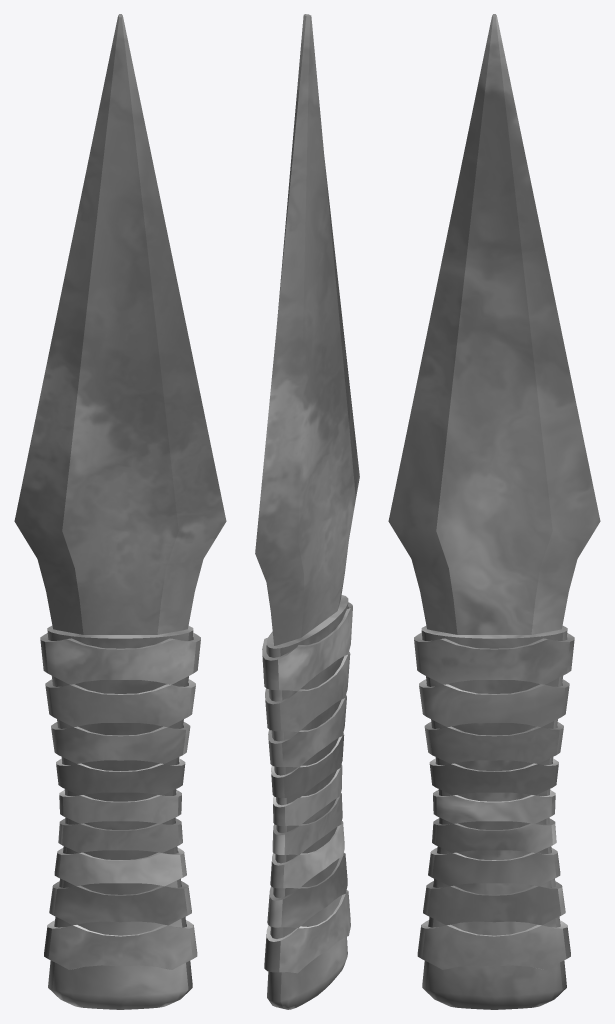
The model's file is SM_knife_02.fbx.
3 views of the same model, side by side, from view 1: azimuth 90°, elevation 25°; view 2: azimuth 150°, elevation 25°; view 3: azimuth 270°, elevation 25° (orthographic).
Visible parts, largest first — view 1: SM_knife_02; view 2: SM_knife_02; view 3: SM_knife_02.
Part boxes in pixels (x1=…): SM_knife_02: x1=14, y1=14, x2=226, y2=1009; SM_knife_02: x1=255, y1=14, x2=359, y2=1009; SM_knife_02: x1=388, y1=14, x2=600, y2=1009.
Size of the model in its own units: 1.93 by 7.98 by 41.1.
Materials: 1 (1 with a texture image).
